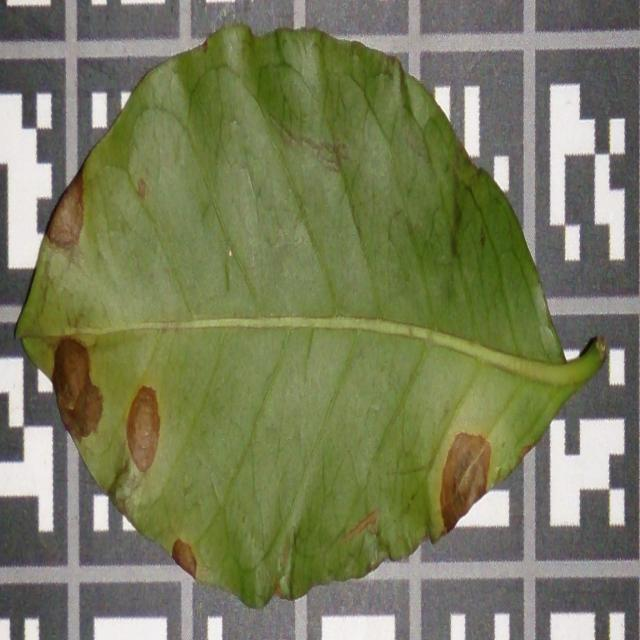Enfermedad-Mancha-de-hierro: (15, 24, 610, 612)
